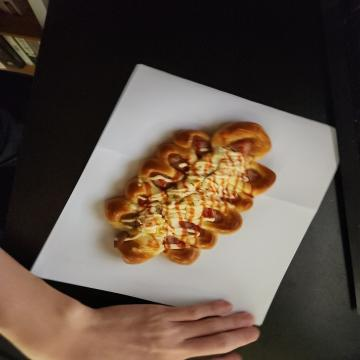pizza_bread: (121, 85, 264, 261)
